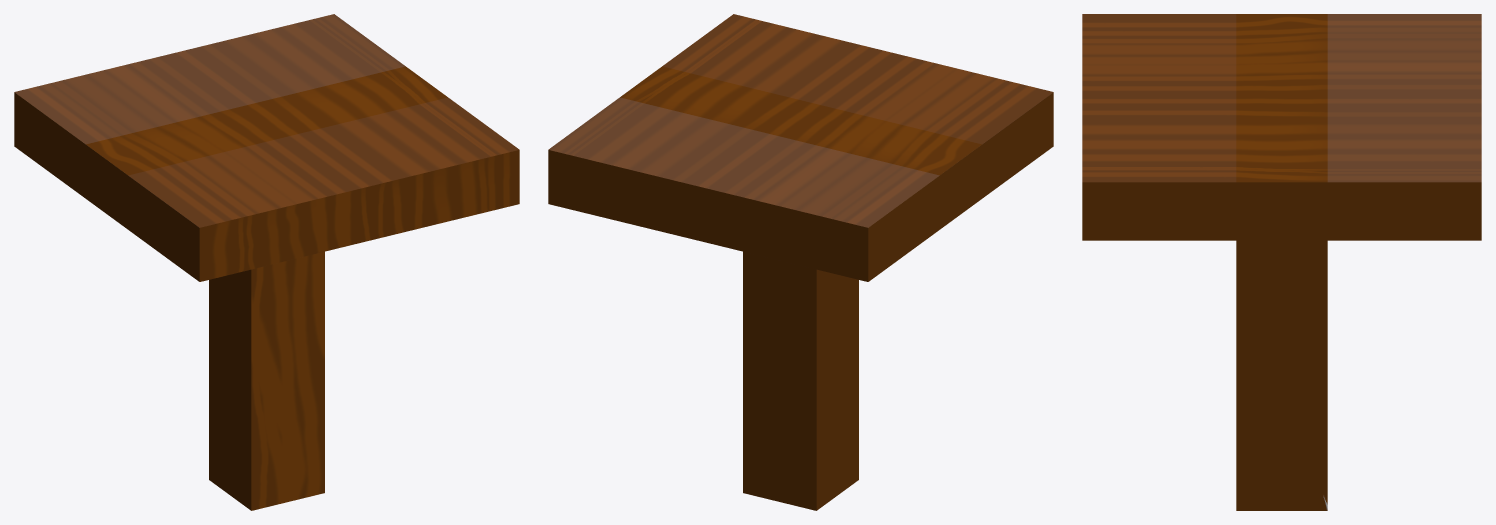
The model's file is 3x3ObjPlatfrom.fbx.
3 renders of one model, left to right at view 1: azimuth 30°, elevation 25°; view 2: azimuth 150°, elevation 25°; view 3: azimuth 270°, elevation 25°, orthographic. The views are drawn at different scales.
Visible parts, largest first — view 1: Cube.001; view 2: Cube.001; view 3: Cube.001.
Boxes of the visible parts, bbox=[...] form: Cube.001: bbox=[14, 14, 519, 510]; Cube.001: bbox=[548, 14, 1053, 510]; Cube.001: bbox=[1082, 14, 1481, 510].
Size of the model in its own units: 948 by 1034 by 951.
